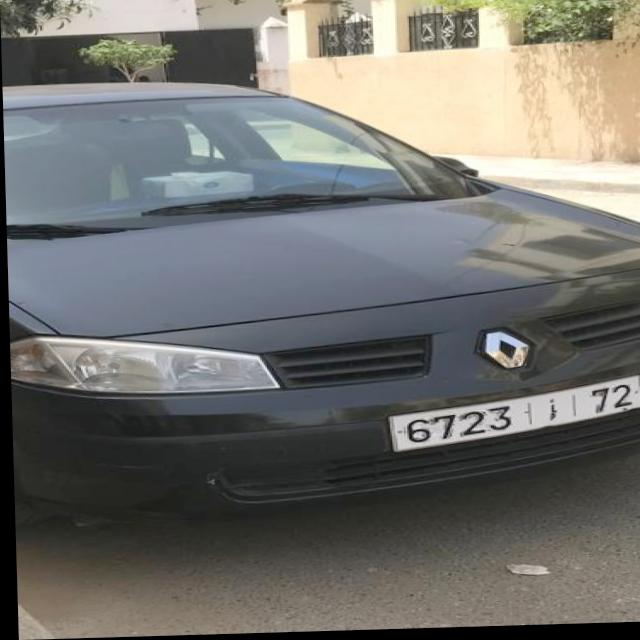License-Plate: (389, 379, 638, 453)
